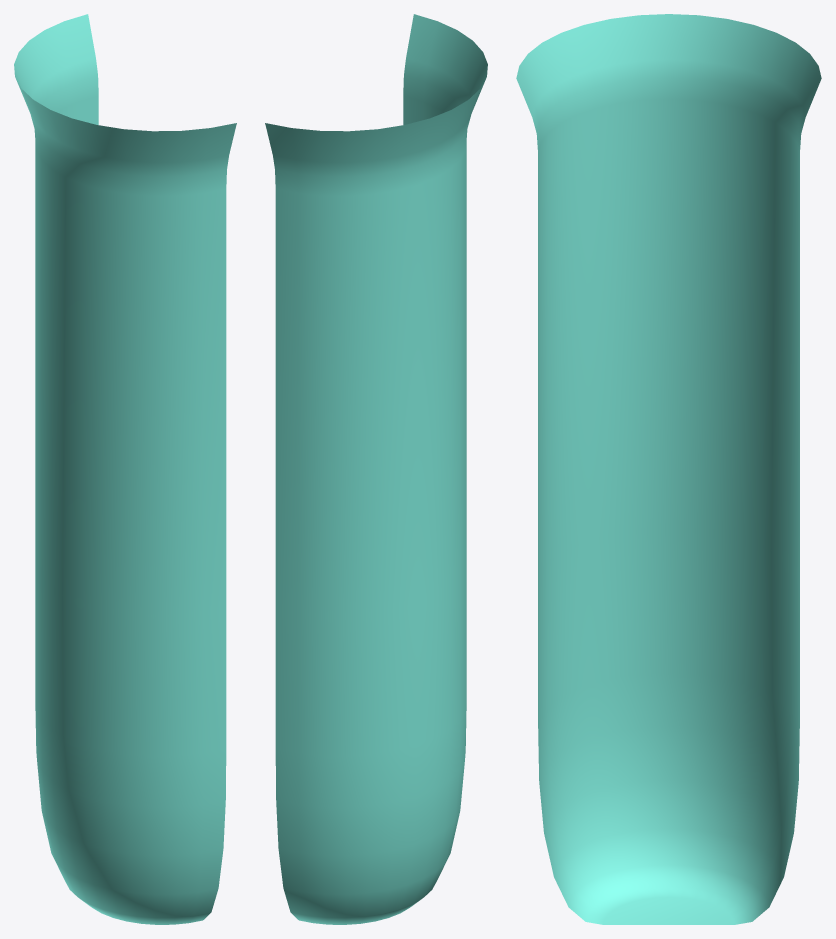
File: nail..gltf
3 views of the same model, side by side, from view 1: azimuth 30°, elevation 25°; view 2: azimuth 150°, elevation 25°; view 3: azimuth 270°, elevation 25° (orthographic). The views are drawn at different scales.
Parts seen in each view (by area): view 1: Cylinder; view 2: Cylinder; view 3: Cylinder.
Boxes of the visible parts, box(x1,y1,x2,y2) form: Cylinder: box(14, 14, 236, 924); Cylinder: box(265, 14, 487, 924); Cylinder: box(516, 14, 821, 924).
Bounding box in the file's own units: 1.28 × 7.83 × 2.56.
